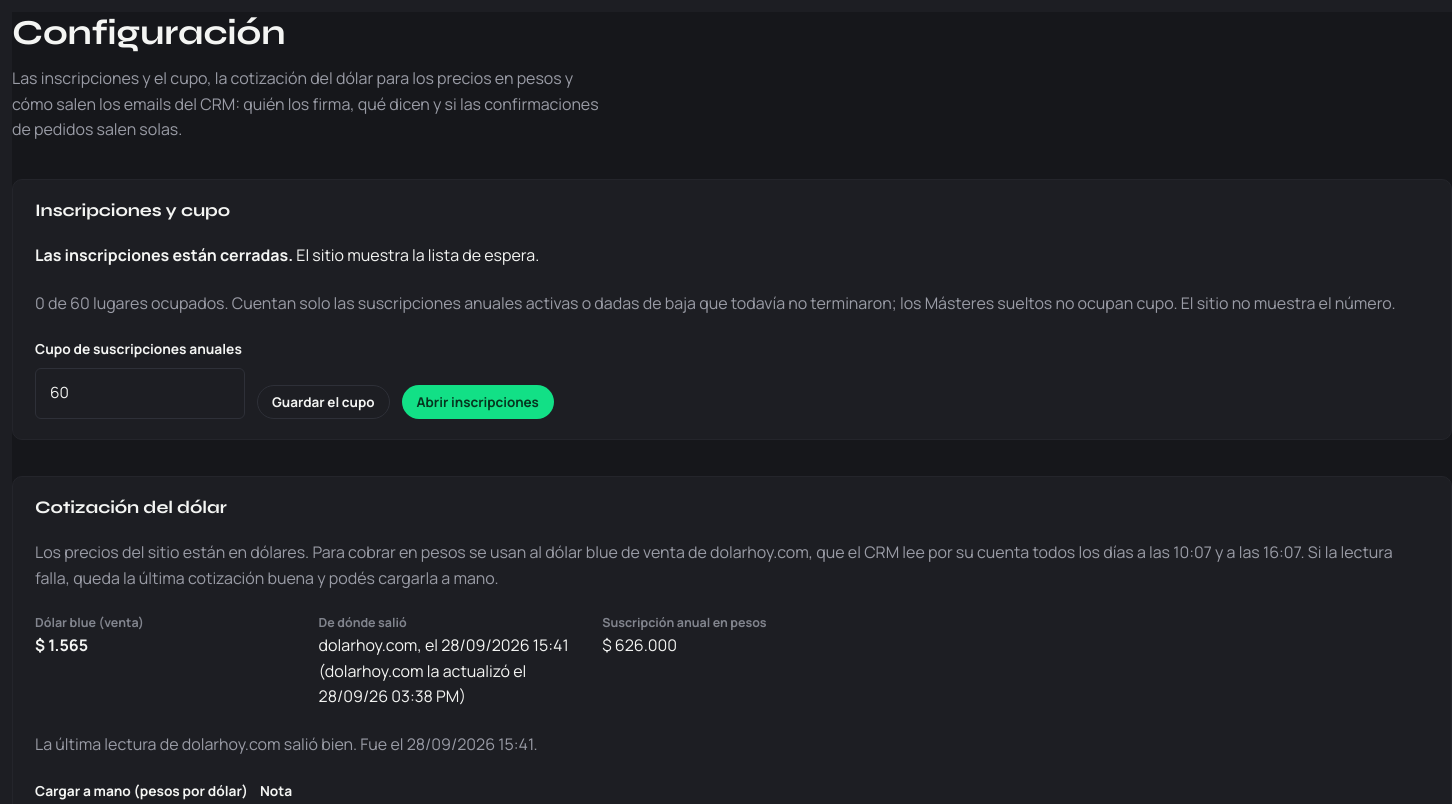
ConfigPage › no guarda un cupo inválido
Replace the text in the field labelled "Cupo de suscripciones anuales" with "0" at [140, 394], box [35,368,245,419]
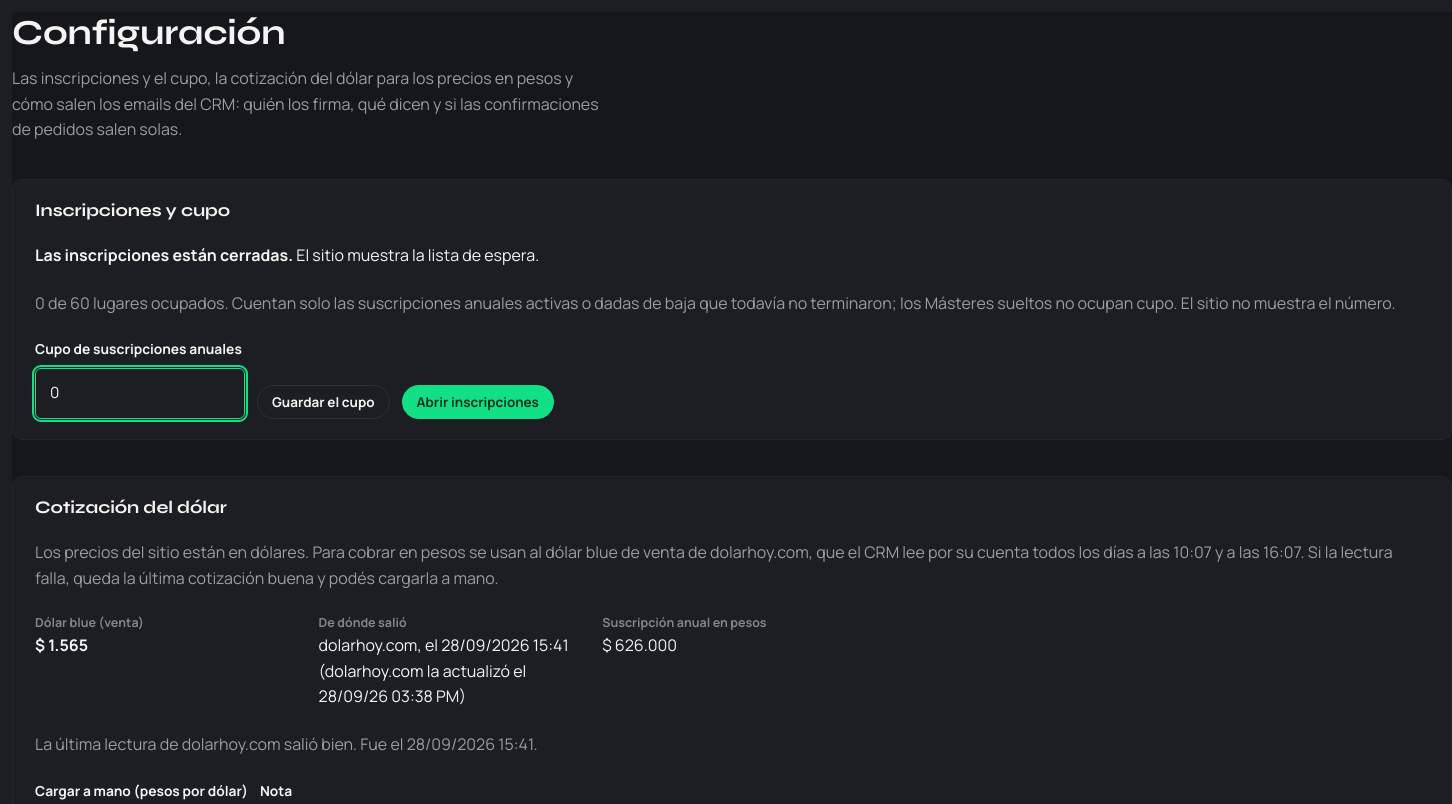
Click the button "Guardar el cupo" at [323, 402], box [257,385,390,419]
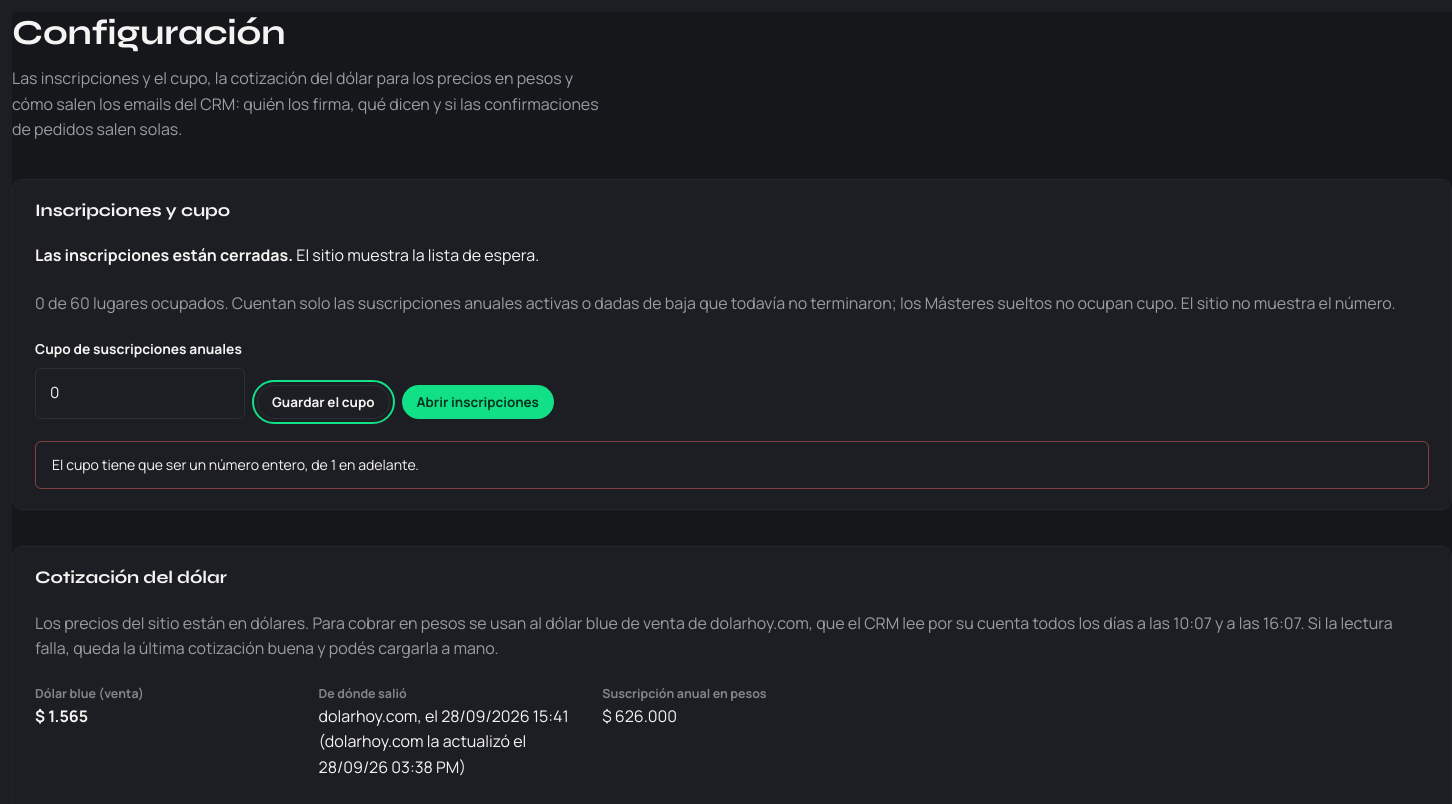
Now the text "El cupo tiene que ser un número entero, de 1 en adelante." is shown, box [35,441,1429,489]
